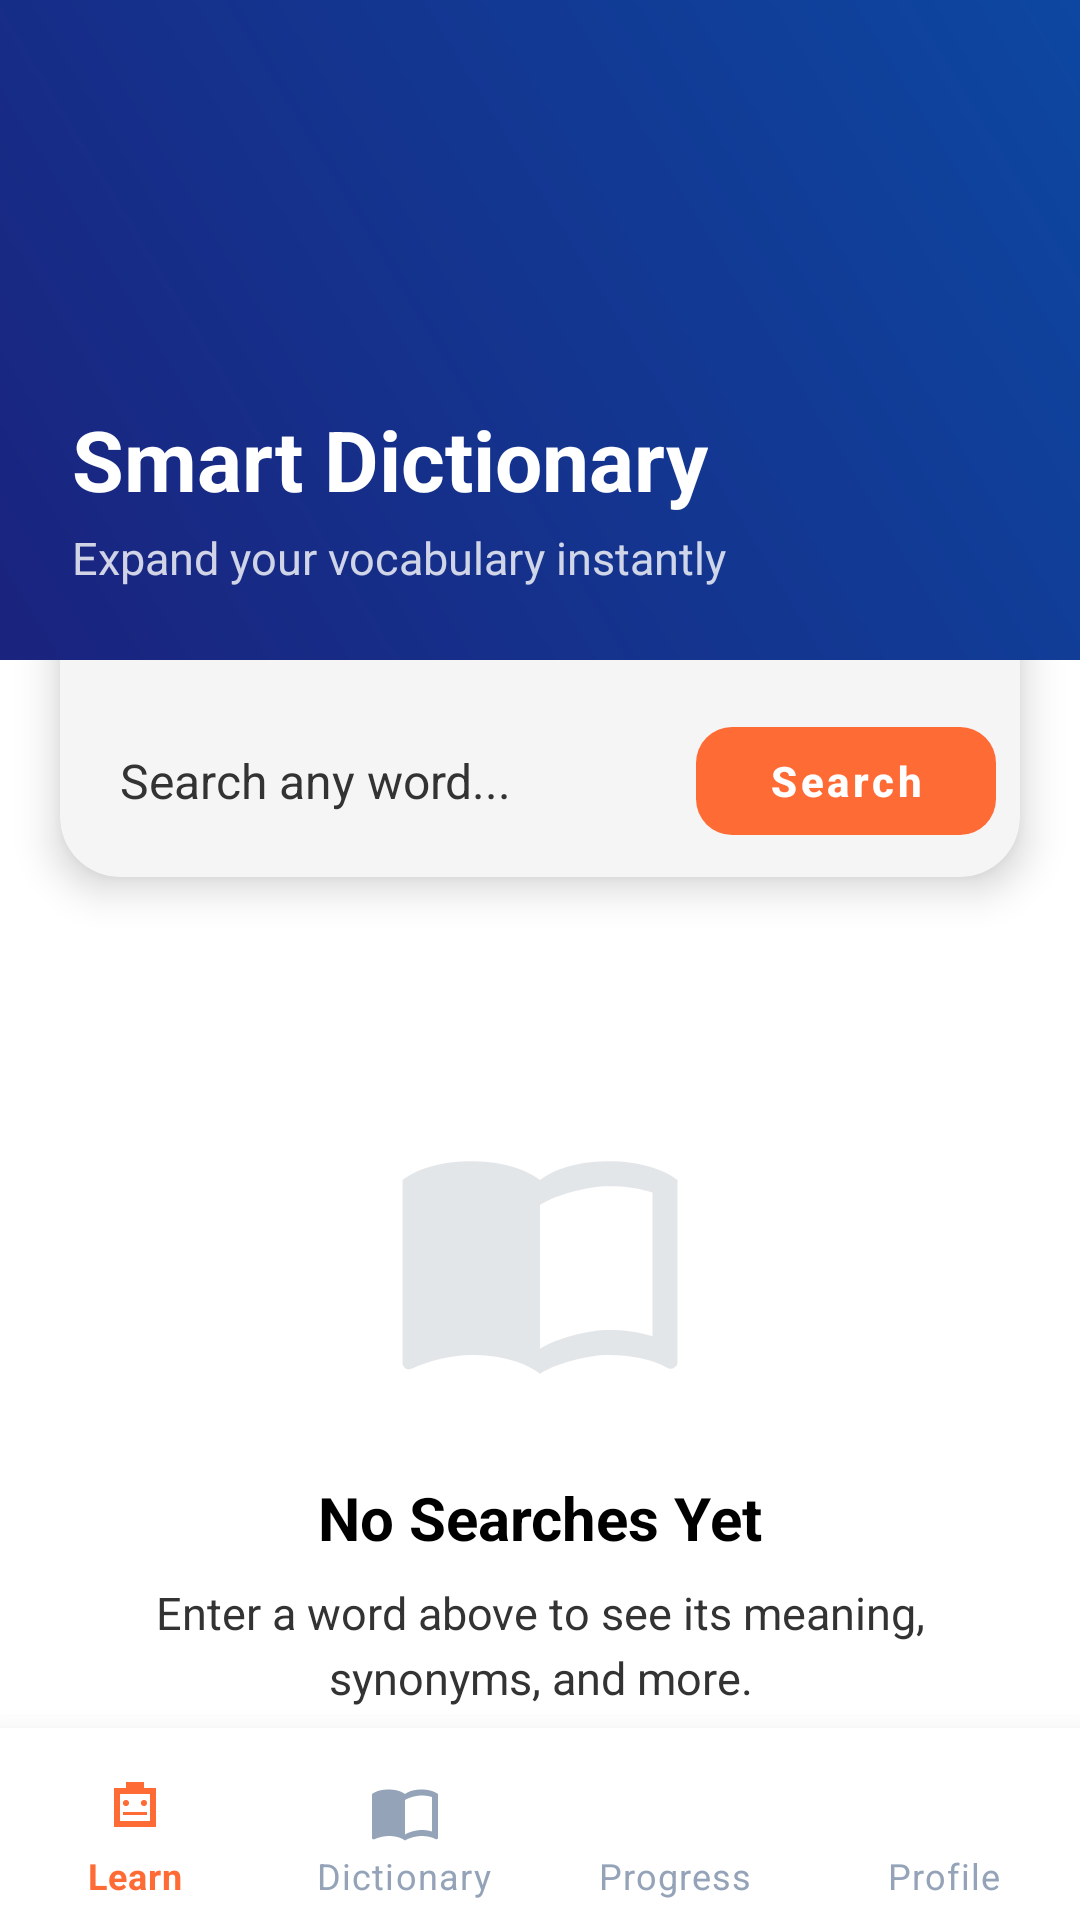

Icon bounding boxes for this 1080×1920 phone screenshot, format {"x1": x1, "y1": y1, "x2": x2, "y2": y2}:
book open modern: {"x1": 403, "y1": 1162, "x2": 677, "y2": 1373}
